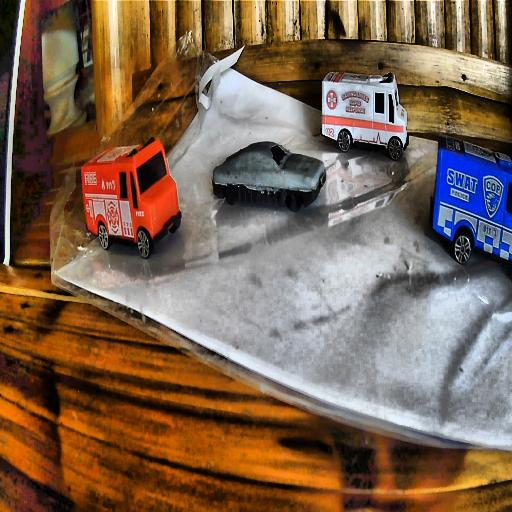ambulance: (320, 68, 408, 160)
fire_truck: (82, 135, 182, 260)
normal_car: (212, 140, 326, 213)
police car: (428, 134, 510, 273)
